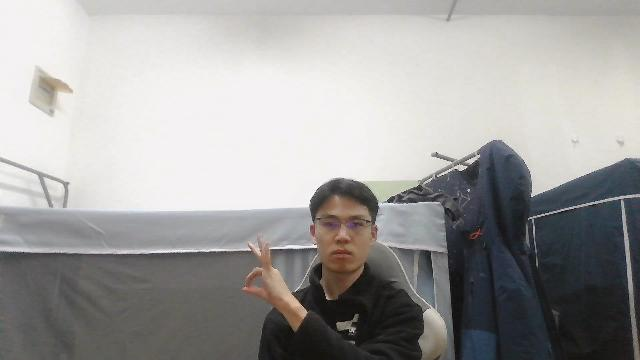ok: (241, 232, 299, 317)
